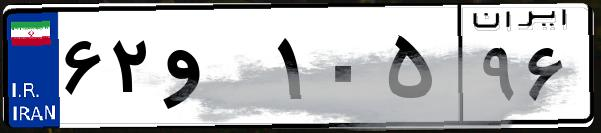0: (330, 28, 385, 110)
1: (270, 28, 330, 110)
2: (110, 28, 158, 98)
5: (385, 28, 445, 110)
6: (57, 26, 110, 100), (525, 38, 570, 115)
9: (475, 38, 525, 113)
و: (158, 20, 270, 120)
